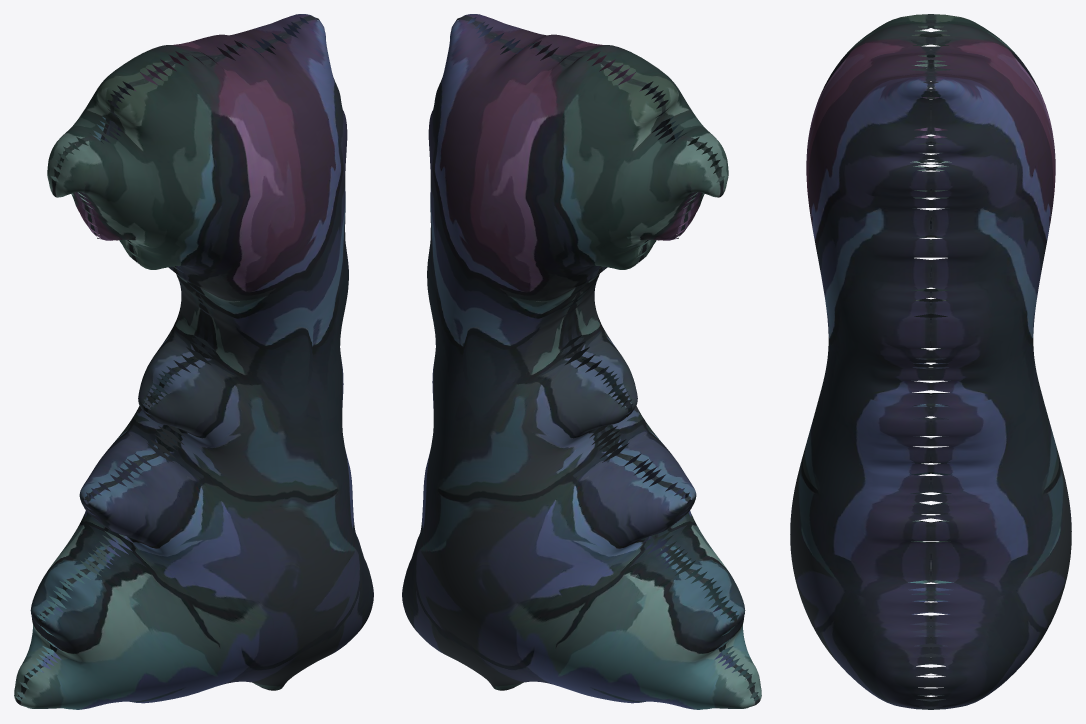
The model's file is cave_buttress.glb.
The picture shows the model from 3 angles, left to right: view 1: azimuth 30°, elevation 25°; view 2: azimuth 150°, elevation 25°; view 3: azimuth 270°, elevation 25°; orthographic projection.
Visible parts, largest first — view 1: cave_buttress; view 2: cave_buttress; view 3: cave_buttress.
Part boxes in pixels (x1,y1,x2,y2): cave_buttress: (14, 14, 373, 709); cave_buttress: (402, 14, 761, 709); cave_buttress: (790, 14, 1071, 709).
Bounding box in the file's own units: 0.9804 × 1.73 × 0.6933.
Materials: 1 (1 with a texture image).
